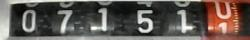digits: (136, 9, 154, 33), (56, 9, 73, 34), (21, 9, 36, 32), (214, 2, 232, 18), (97, 7, 107, 31), (176, 10, 186, 32)
